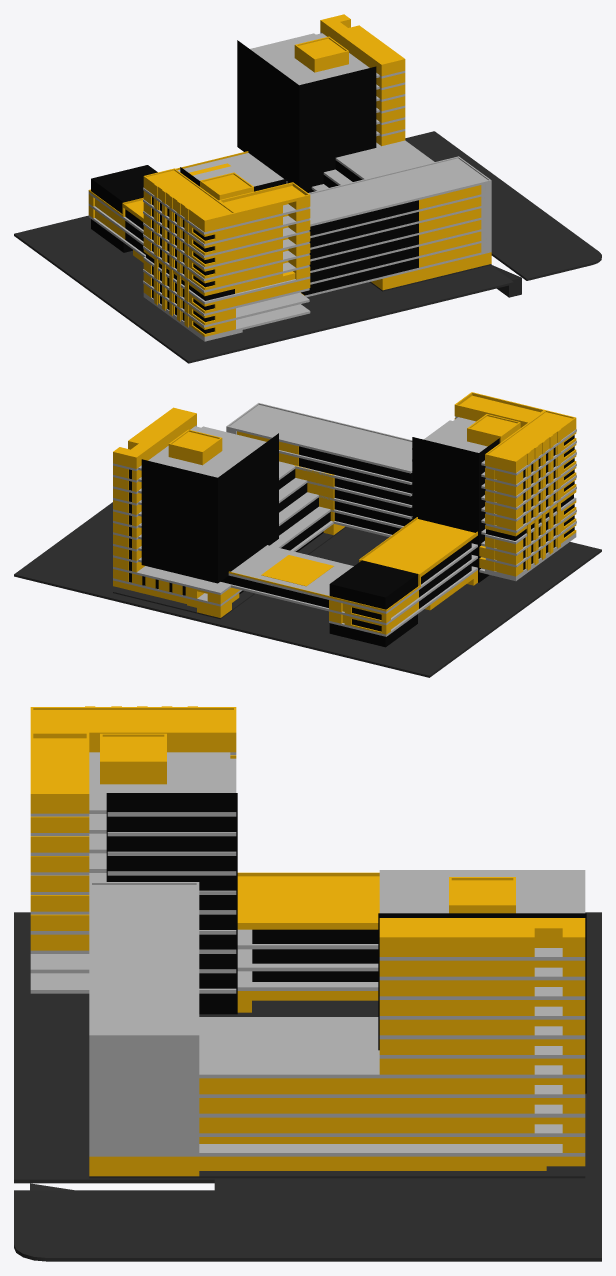
File: media.glb
3 renders of one model, top to bottom at view 1: azimuth 30°, elevation 25°; view 2: azimuth 150°, elevation 25°; view 3: azimuth 270°, elevation 25°, orthographic. The views are drawn at different scales.
Visible parts, largest first — view 1: Object_15582, Object_14406, Object_15756, Object_15729; view 2: Object_14406, Object_15582, Object_15729, Object_15756, Object_14232, Object_14179; view 3: Object_15582, Object_15729, Object_15756, Object_14406, Object_14232.
Part boxes in pixels (x1,y1,x2,y2): Object_15582: (88,14,491,336); Object_14406: (91,40,418,333); Object_15756: (14,131,601,363); Object_15729: (88,32,491,341); Object_14406: (129,433,574,647); Object_15582: (113,392,576,634); Object_15729: (113,403,576,636); Object_15756: (14,502,601,677); Object_14232: (113,526,346,619); Object_14179: (327,544,370,565); Object_15582: (30,706,585,1176); Object_15729: (30,752,585,1156); Object_15756: (14,912,601,1261); Object_14406: (106,793,586,1093); Object_14232: (89,1166,585,1178).
Bounding box in the file's own units: 106 × 39.73 × 73.38.
